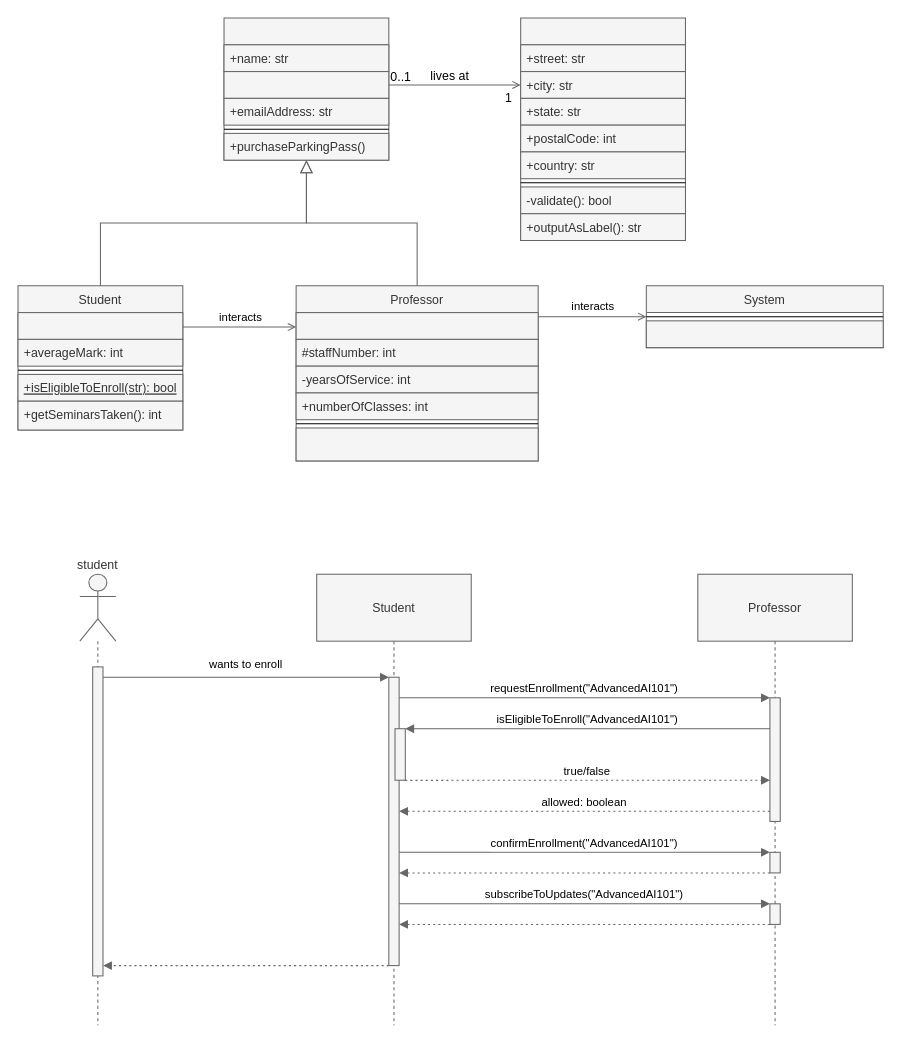
The diagram is 901 pixels wide and 1043 high, and some of its shapes have lost their labels. Each missing label, with the box of its shape:
+approveEnrollment(course str): bool: (645, 320, 883, 348)
+phoneNumber: str: (223, 71, 389, 98)
+requestEnrollment(course str): bool: (295, 427, 538, 461)
+studentNumber: int: (17, 312, 183, 339)
/salary: int: (295, 312, 538, 339)
Address: (520, 17, 685, 241)
Person: (223, 17, 389, 160)
